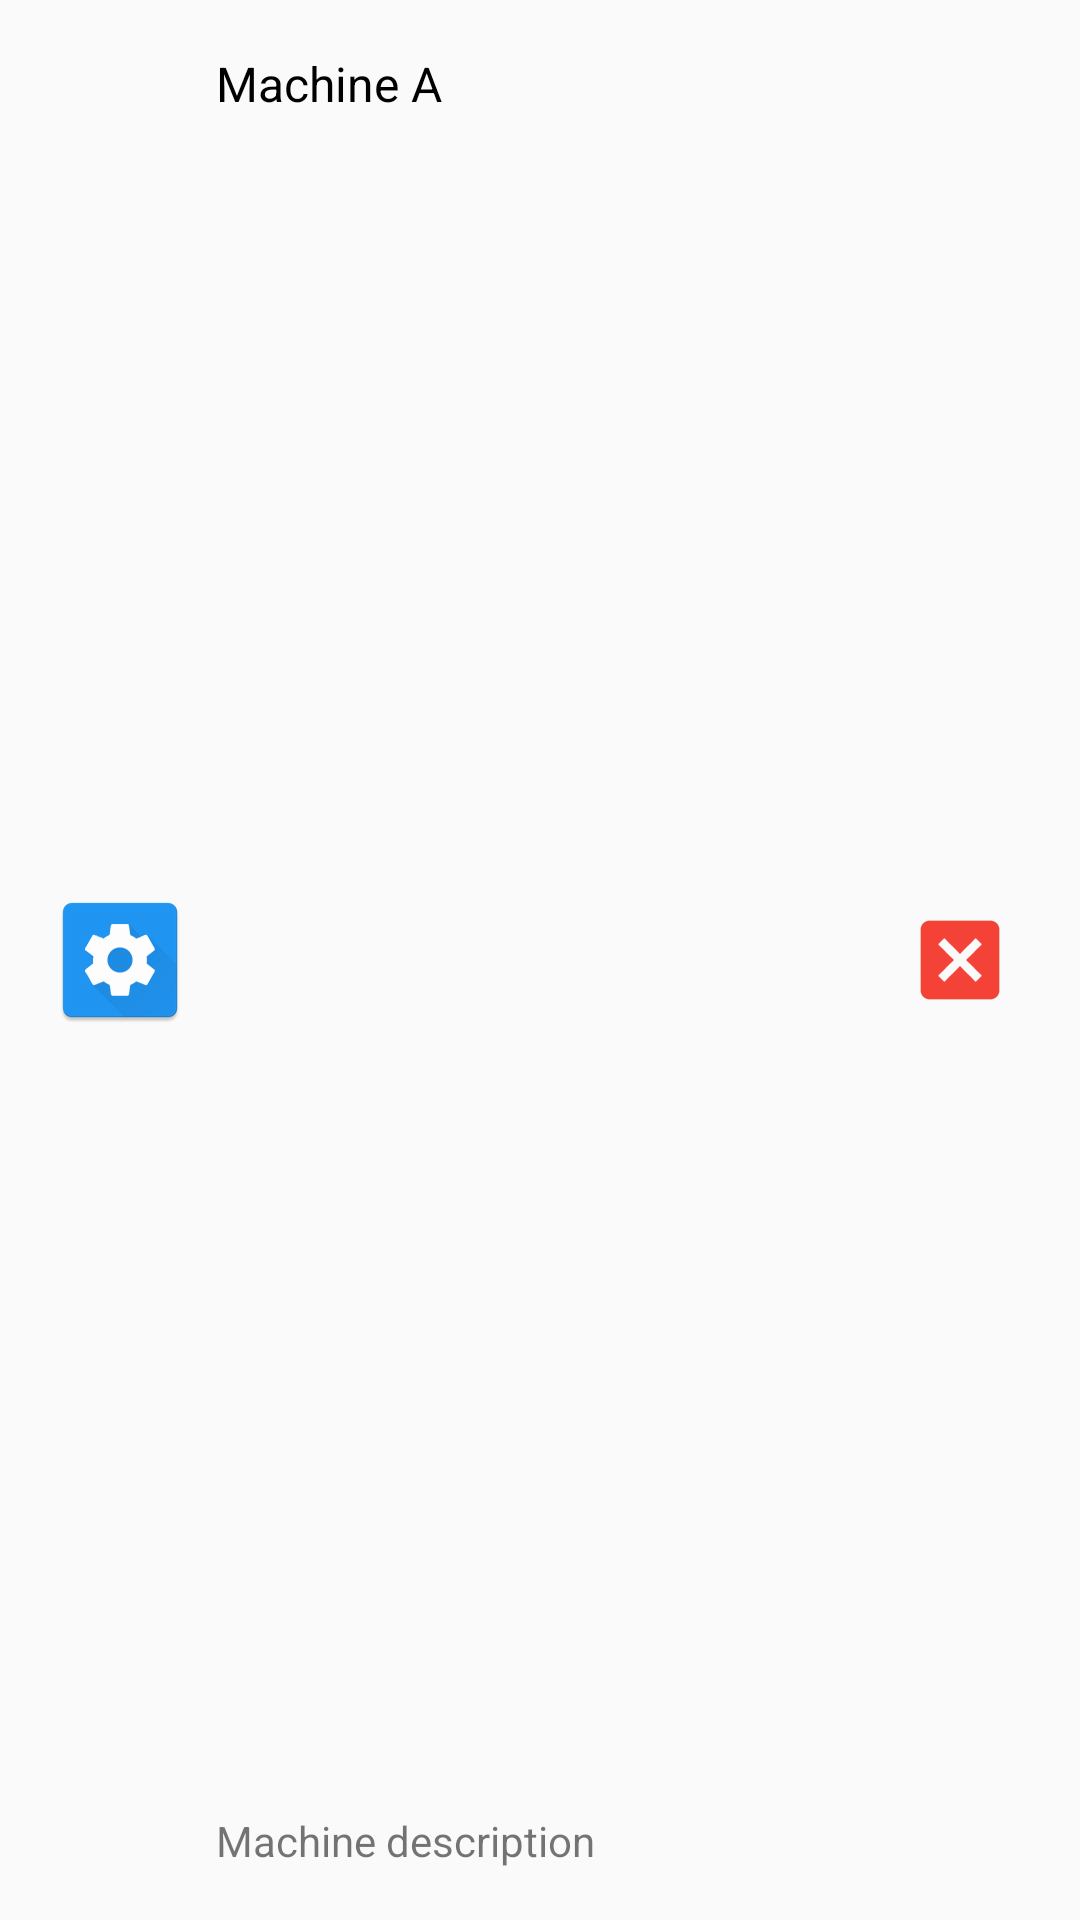

Icon bounding boxes for this 1080px×1920px phone screenshot, format (x1, y1, x2, y2):
Machine State Icon: (920, 920, 1000, 1000)
